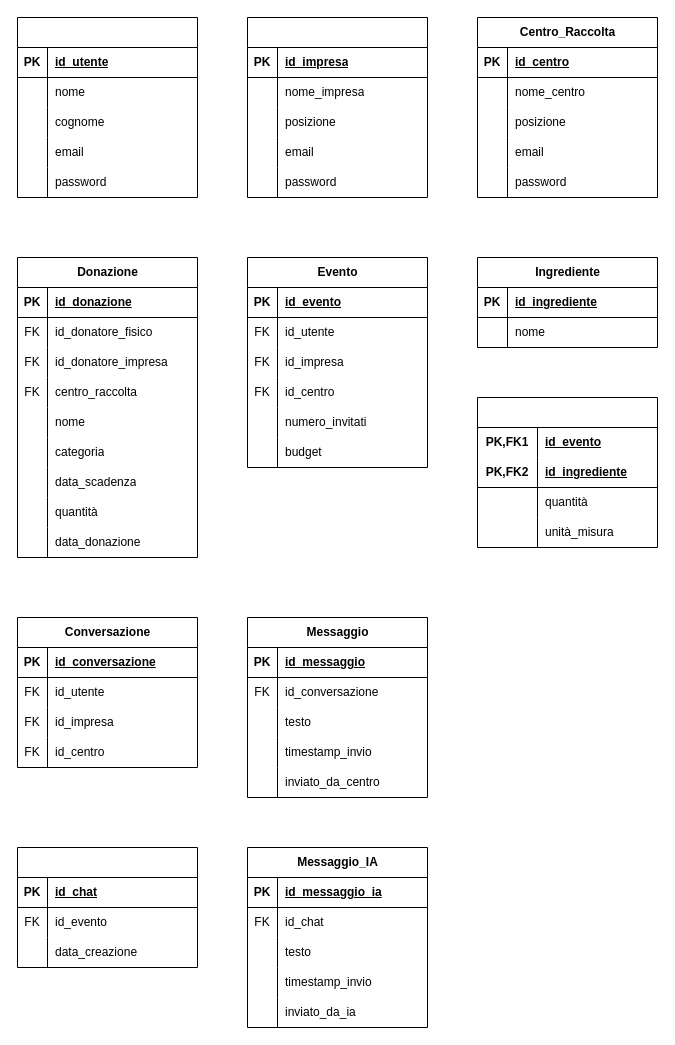
This 675x1045 diagram has some shape labels left out. Each missing label, with the box of its shape:
Chat_IA: (16, 846, 198, 968)
Ingrediente_Evento: (476, 396, 658, 548)
Utente_Fisico: (16, 16, 198, 198)
Utente_Impresa: (246, 16, 428, 198)
